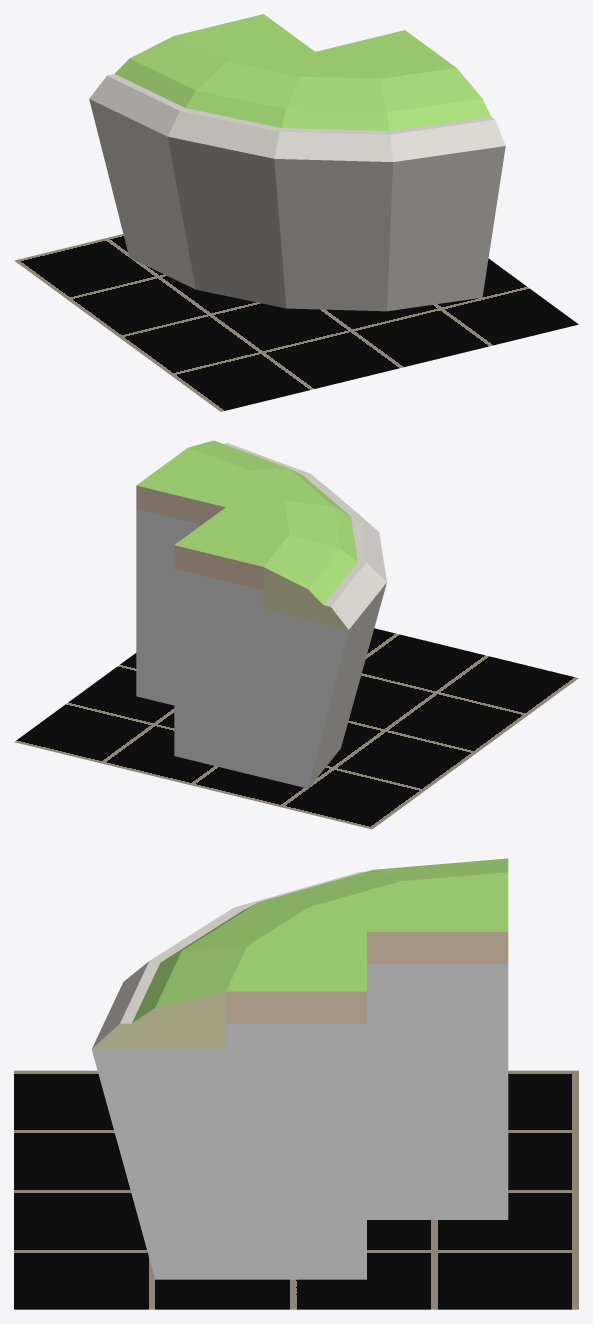
The model's file is Basic_Curve_Outer_3x3_Top.glb.
3 views of the same model, one above another, from view 1: azimuth 30°, elevation 25°; view 2: azimuth 150°, elevation 25°; view 3: azimuth 270°, elevation 25° (orthographic). The views are drawn at different scales.
Visible parts, largest first — view 1: Basic_Curve_Outer_3x3_Top, Floor; view 2: Basic_Curve_Outer_3x3_Top, Floor; view 3: Basic_Curve_Outer_3x3_Top, Floor.
Part boxes in pixels (box(x1,y1,x2,y2)): Basic_Curve_Outer_3x3_Top: box(89, 14, 505, 311); Floor: box(14, 234, 578, 411); Basic_Curve_Outer_3x3_Top: box(136, 440, 386, 788); Floor: box(14, 628, 578, 829); Basic_Curve_Outer_3x3_Top: box(91, 858, 508, 1279); Floor: box(14, 1070, 578, 1309).
Bounding box in the file's own units: 400 × 225 × 400.
Materials: 6 (1 with a texture image).
